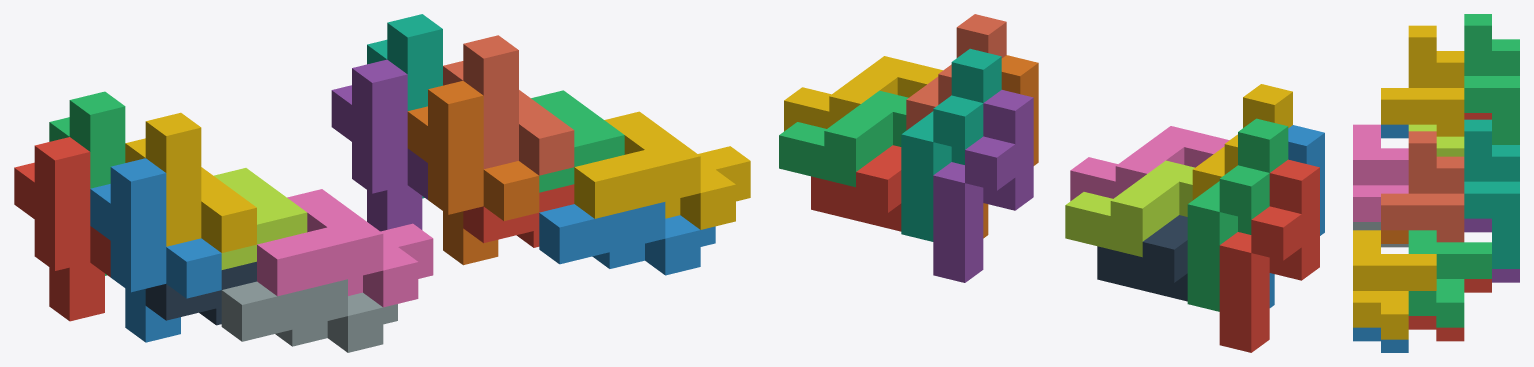
File: tiling.obj
The picture shows the model from 3 angles, left to right: view 1: azimuth 30°, elevation 25°; view 2: azimuth 150°, elevation 25°; view 3: azimuth 270°, elevation 25°; orthographic projection. The views are drawn at different scales.
Visible parts, largest first — view 1: copy_2_domain_8, copy_2_domain_4, copy_1_domain_2, copy_1_domain_6, copy_1_domain_1, copy_1_domain_5, copy_1_domain_8, copy_1_domain_4, copy_2_domain_2, copy_2_domain_6, copy_1_domain_3, copy_1_domain_7 (+4 smaller); view 2: copy_1_domain_5, copy_1_domain_1, copy_1_domain_3, copy_1_domain_7, copy_2_domain_3, copy_2_domain_7, copy_2_domain_4, copy_2_domain_8, copy_2_domain_5, copy_2_domain_1, copy_1_domain_8, copy_1_domain_4 (+2 smaller); view 3: copy_1_domain_8, copy_1_domain_4, copy_1_domain_7, copy_2_domain_8, copy_1_domain_3, copy_2_domain_7, copy_2_domain_4, copy_2_domain_5, copy_2_domain_3, copy_1_domain_5, copy_2_domain_6, copy_1_domain_2 (+3 smaller).
Part boxes in pixels (x1,y1,x2,y2): copy_2_domain_8: (574,111,750,229); copy_2_domain_4: (257,189,433,307); copy_1_domain_2: (90,158,221,342); copy_1_domain_6: (407,81,539,265); copy_1_domain_1: (14,137,110,321); copy_1_domain_5: (331,59,427,231); copy_1_domain_8: (443,35,574,175); copy_1_domain_4: (125,112,256,252); copy_2_domain_2: (221,279,397,352); copy_2_domain_6: (539,202,715,275); copy_1_domain_3: (49,91,125,275); copy_1_domain_7: (367,14,442,198); copy_1_domain_5: (933,90,1033,282); copy_1_domain_1: (1219,159,1319,352); copy_1_domain_3: (1187,118,1288,311); copy_1_domain_7: (901,48,1001,241); copy_2_domain_3: (1065,160,1194,257); copy_2_domain_7: (779,90,908,187); copy_2_domain_4: (1070,126,1229,201); copy_2_domain_8: (784,56,942,131); copy_2_domain_5: (811,145,901,231); copy_2_domain_1: (1097,215,1187,301); copy_1_domain_8: (906,14,1006,130); copy_1_domain_4: (1192,84,1292,200); copy_1_domain_8: (1381,131,1464,242); copy_1_domain_4: (1381,25,1464,136); copy_1_domain_7: (1464,119,1519,268); copy_2_domain_8: (1353,230,1436,339); copy_1_domain_3: (1464,14,1519,144); copy_2_domain_7: (1408,230,1491,327); copy_2_domain_4: (1353,124,1408,221); copy_2_domain_5: (1408,279,1491,341); copy_2_domain_3: (1408,124,1464,156); copy_1_domain_5: (1464,218,1519,282); copy_2_domain_6: (1353,327,1408,352); copy_1_domain_2: (1381,124,1408,138).
Size of the model in its own units: 18 by 6 by 6.
